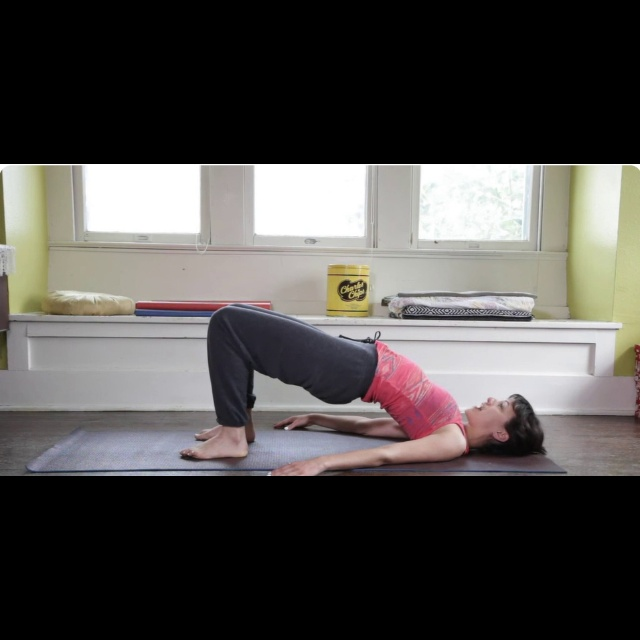Bridge_Pose: (176, 299, 552, 474)
